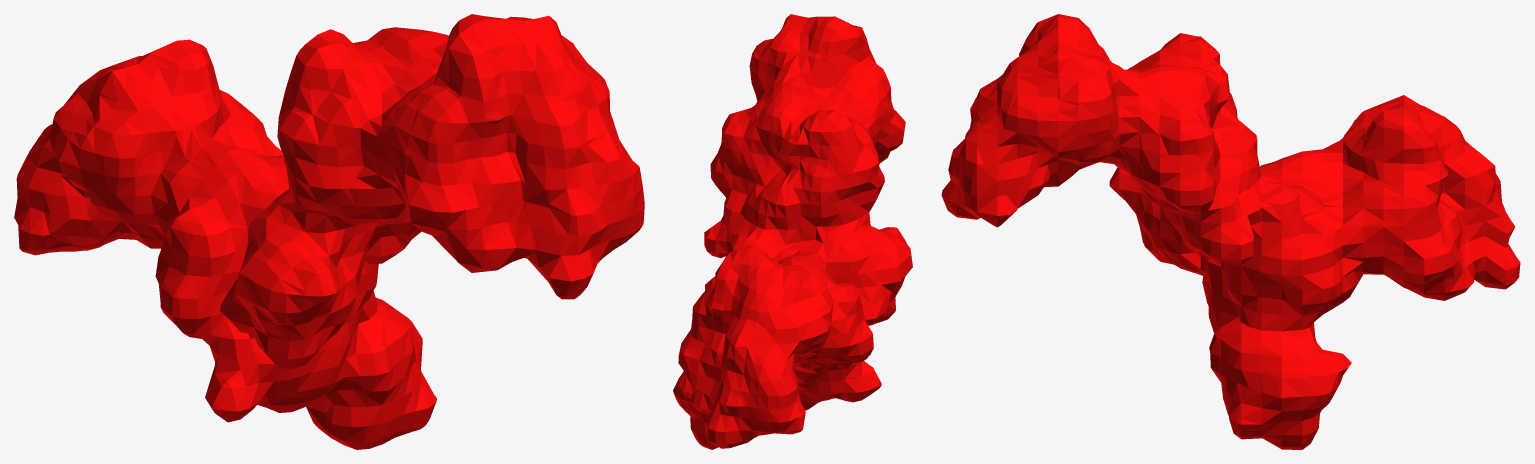
File: gcvT_coarse.dae
The picture shows the model from 3 angles, left to right: view 1: azimuth 30°, elevation 25°; view 2: azimuth 150°, elevation 25°; view 3: azimuth 270°, elevation 25°; orthographic projection. The views are drawn at different scales.
Visible parts, largest first — view 1: gcvT; view 2: gcvT; view 3: gcvT.
Boxes of the visible parts, left/top/right/bottom form: gcvT: left=14, top=14, right=644, bottom=449; gcvT: left=673, top=14, right=912, bottom=449; gcvT: left=941, top=14, right=1520, bottom=449.
Size of the model in its own units: 89.8 by 139 by 173.
